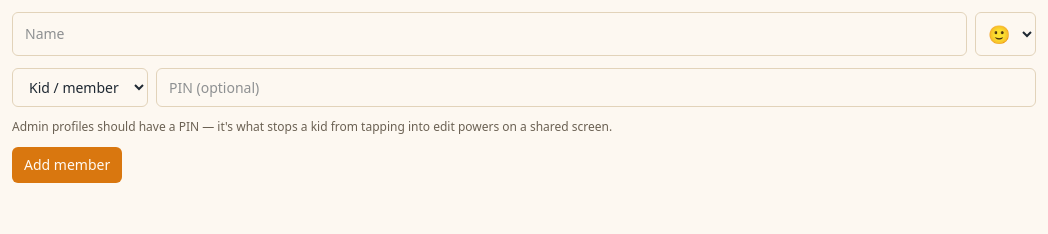
Test: AddMemberForm › shows an error message on failure
Type "x" into the field with placeholder "Name" at (490, 34), box top-left (12, 12), bottom-right (967, 56)
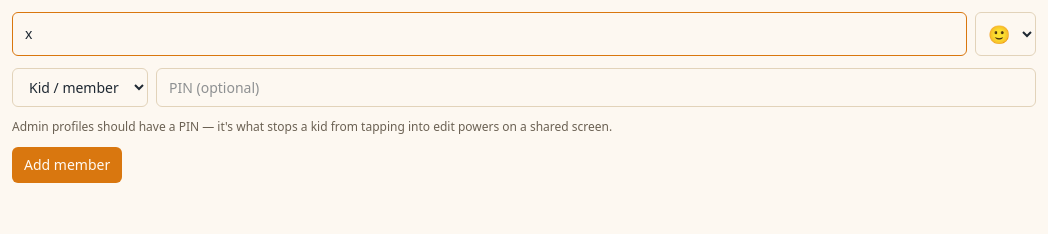
Click the button "Add member" at (67, 165), box top-left (12, 147), bottom-right (122, 183)
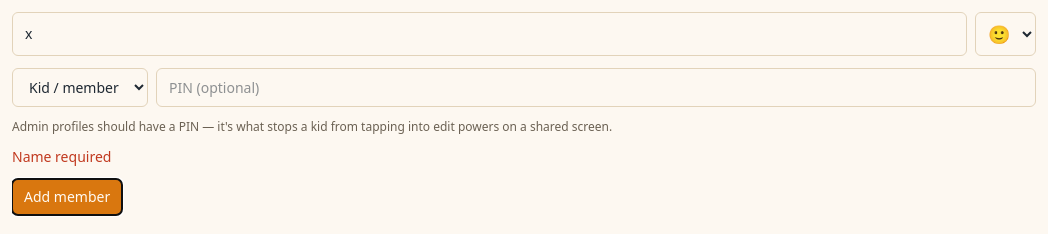
Check: the message reads "Name required", box top-left (12, 147), bottom-right (111, 166)
